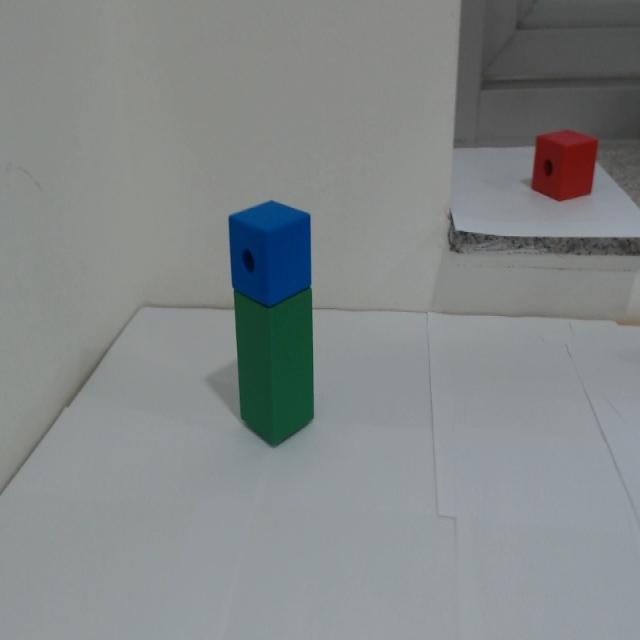cube: (208, 198, 331, 297)
